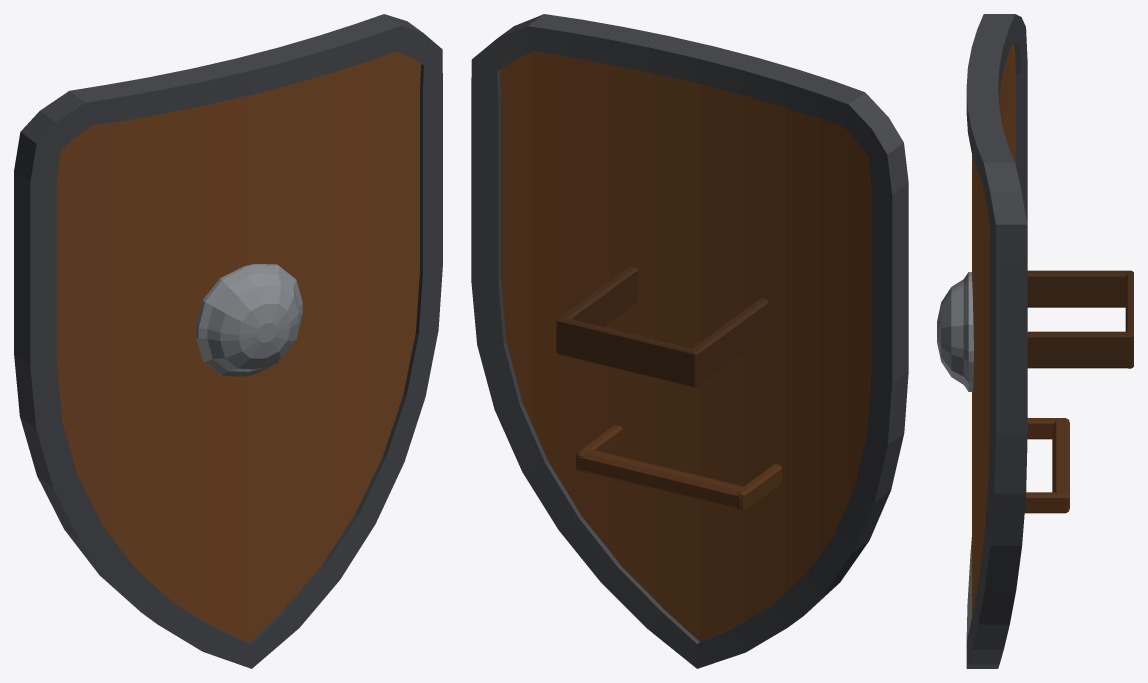
File: chopper_shield.fbx
3 views of the same model, side by side, from view 1: azimuth 30°, elevation 25°; view 2: azimuth 150°, elevation 25°; view 3: azimuth 270°, elevation 25° (orthographic). The views are drawn at different scales.
Parts seen in each view (by area): view 1: chopper_shield; view 2: chopper_shield; view 3: chopper_shield.
Boxes of the visible parts, box(x1,y1,x2,y2) form: chopper_shield: box(14, 14, 442, 668); chopper_shield: box(471, 14, 908, 668); chopper_shield: box(937, 14, 1133, 668).
Bounding box in the file's own units: 0.674 × 0.934 × 0.287.
